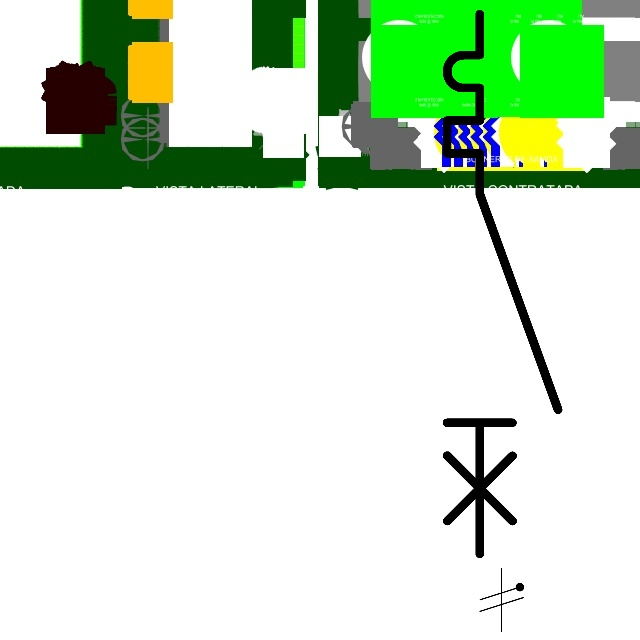interruptor_termomagnetico: (433, 0, 572, 568)
